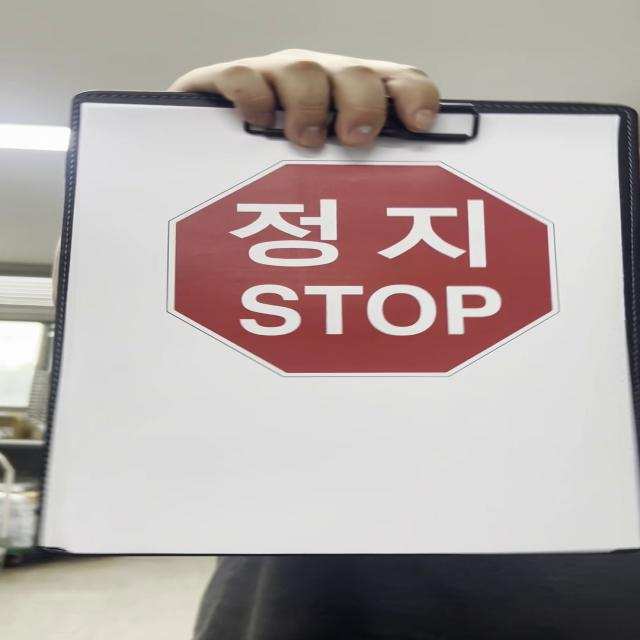stop: (167, 158, 565, 379)
